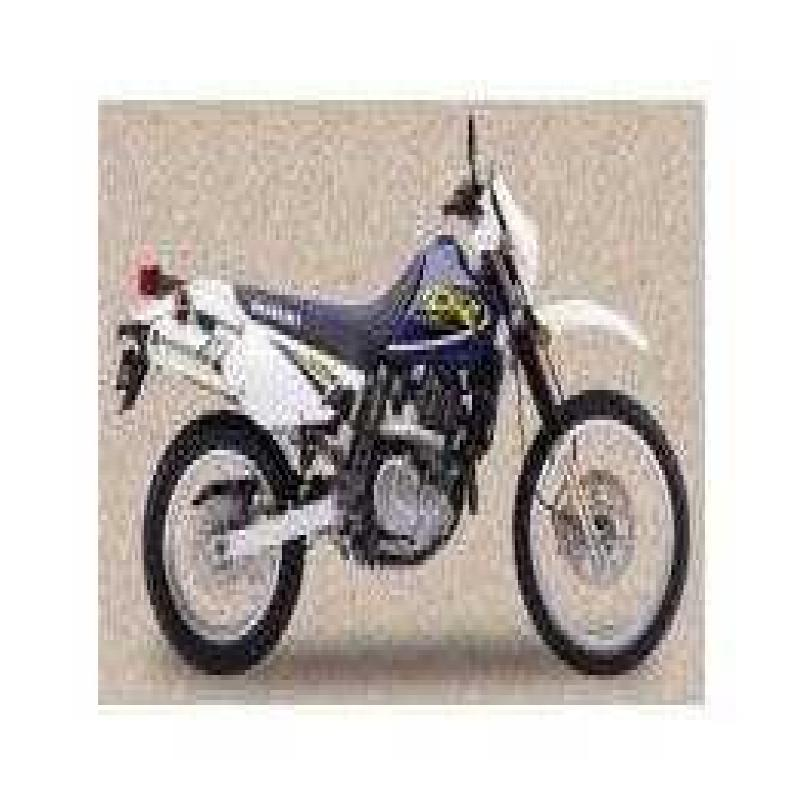bike: (110, 92, 706, 688)
